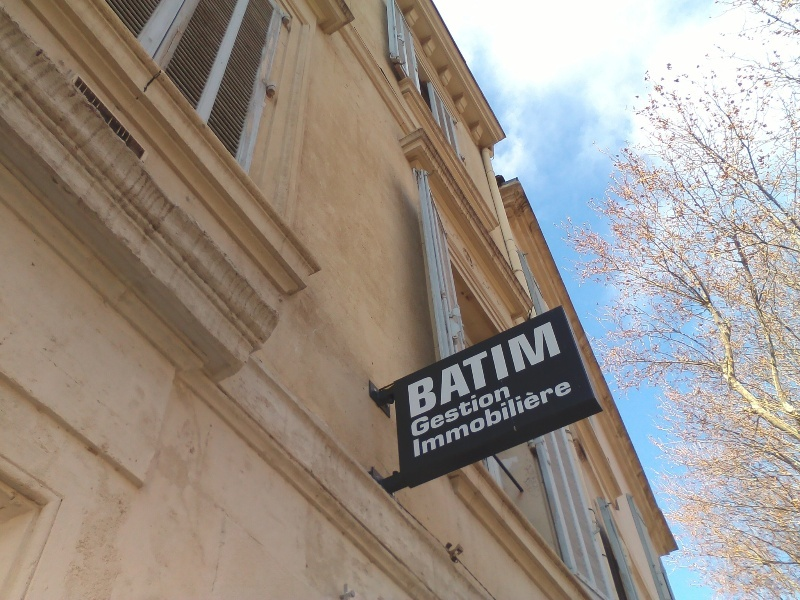text: (417, 319, 432, 420), (433, 319, 448, 420), (449, 319, 464, 420), (465, 319, 480, 420), (481, 319, 496, 420), (497, 319, 512, 420), (513, 319, 528, 420), (529, 319, 544, 420), (545, 319, 560, 420), (417, 376, 432, 459), (433, 376, 448, 459), (449, 376, 464, 459), (465, 376, 480, 459), (481, 376, 496, 459), (497, 376, 512, 459), (513, 376, 528, 459), (529, 376, 544, 459), (545, 376, 560, 459), (561, 376, 576, 459), (406, 319, 416, 420), (417, 380, 432, 440), (433, 380, 448, 440), (449, 380, 464, 440), (465, 380, 480, 440), (481, 380, 496, 440), (497, 380, 512, 440), (410, 380, 416, 440), (412, 376, 416, 459), (561, 319, 563, 420)
